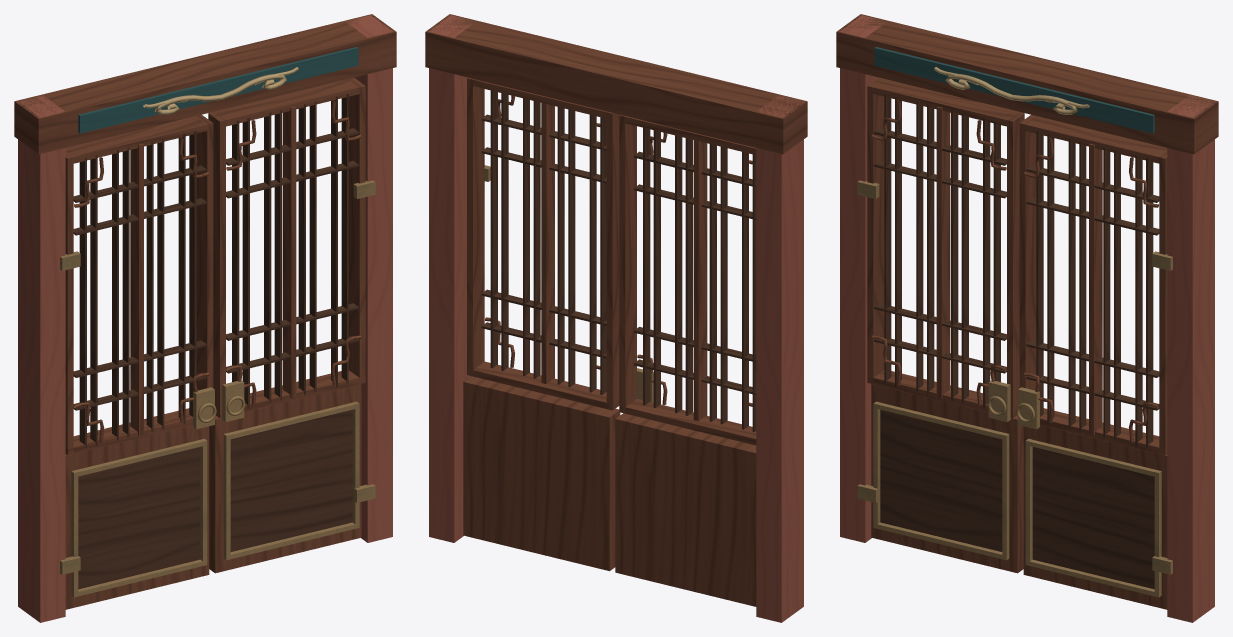
The picture shows the model from 3 angles, left to right: view 1: azimuth 30°, elevation 25°; view 2: azimuth 150°, elevation 25°; view 3: azimuth 330°, elevation 25°; orthographic projection.
Visible parts, largest first — view 1: TwoOpenworkLeaves_walnut, TwoOpenworkLeaves_heartwood, DoorFrame_lacquer, DoorFrame_heartwood, TwoOpenworkLeaves_bronze, DoorFrame_teal, DoorFrame_gold; view 2: TwoOpenworkLeaves_heartwood, DoorFrame_lacquer, TwoOpenworkLeaves_walnut, DoorFrame_heartwood; view 3: TwoOpenworkLeaves_walnut, TwoOpenworkLeaves_heartwood, DoorFrame_lacquer, DoorFrame_heartwood, TwoOpenworkLeaves_bronze, DoorFrame_teal, DoorFrame_gold.
Boxes of the visible parts, x1,y1,x2,y2 form: TwoOpenworkLeaves_walnut: [73, 93, 358, 589]; TwoOpenworkLeaves_heartwood: [65, 77, 365, 609]; DoorFrame_lacquer: [18, 15, 392, 622]; DoorFrame_heartwood: [14, 14, 396, 154]; TwoOpenworkLeaves_bronze: [60, 180, 375, 597]; DoorFrame_teal: [78, 47, 358, 133]; DoorFrame_gold: [143, 67, 298, 114]; TwoOpenworkLeaves_heartwood: [463, 77, 756, 606]; DoorFrame_lacquer: [429, 15, 803, 622]; TwoOpenworkLeaves_walnut: [481, 90, 756, 432]; DoorFrame_heartwood: [425, 14, 807, 154]; TwoOpenworkLeaves_walnut: [874, 93, 1159, 589]; TwoOpenworkLeaves_heartwood: [867, 77, 1167, 609]; DoorFrame_lacquer: [840, 15, 1214, 622]; DoorFrame_heartwood: [836, 14, 1218, 154]; TwoOpenworkLeaves_bronze: [857, 180, 1172, 597]; DoorFrame_teal: [874, 47, 1154, 133]; DoorFrame_gold: [934, 67, 1089, 114].
Bounding box in the file's own units: 2.12 × 2.86 × 0.299.
6 materials, 6 textured.
